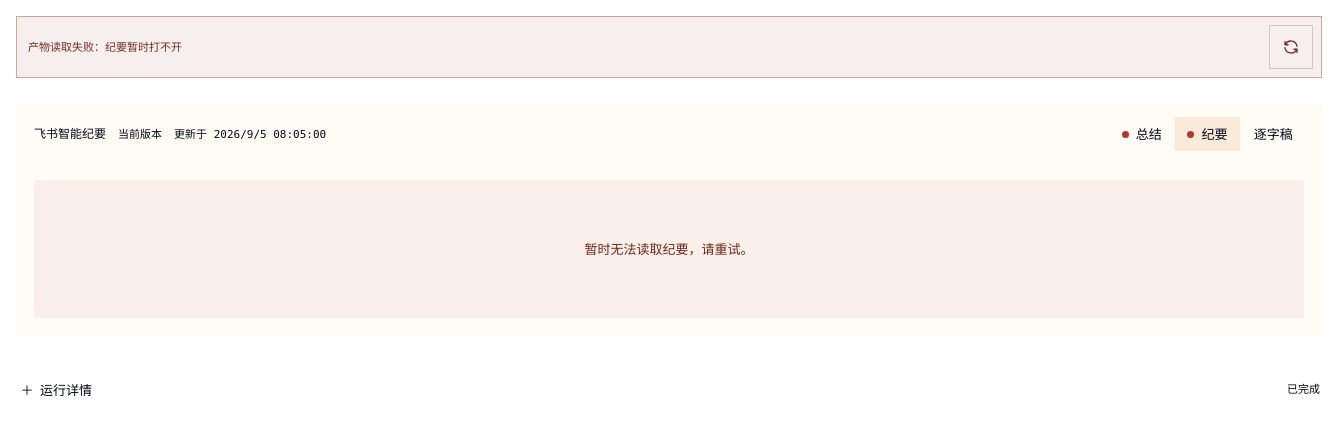
EpisodeProcessingPanel visual tab user flow › keeps a read failure attached to its own product after another product succeeds
This screenshot has width=1339, height=448.
Expected: the text "暂时无法读取纪要，请重试。" is shown, [34, 180, 1304, 318]
What coordinates should you click on to do the following:
click the tab "逐字稿"
I would click on:
 (1273, 134)
Its box is [1240, 117, 1306, 151].
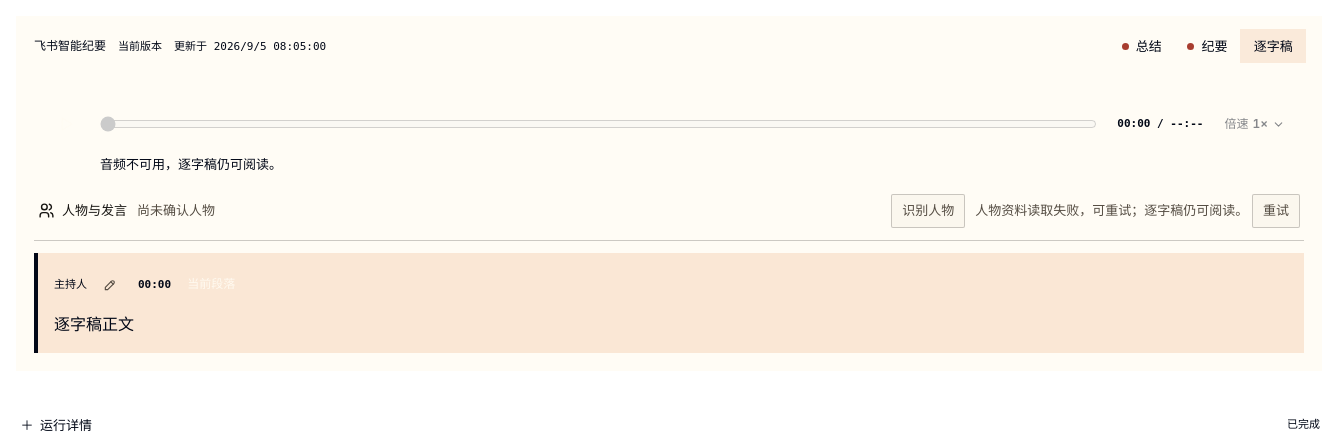
Result: the text "逐字稿正文" is shown at [54, 314, 134, 334]
